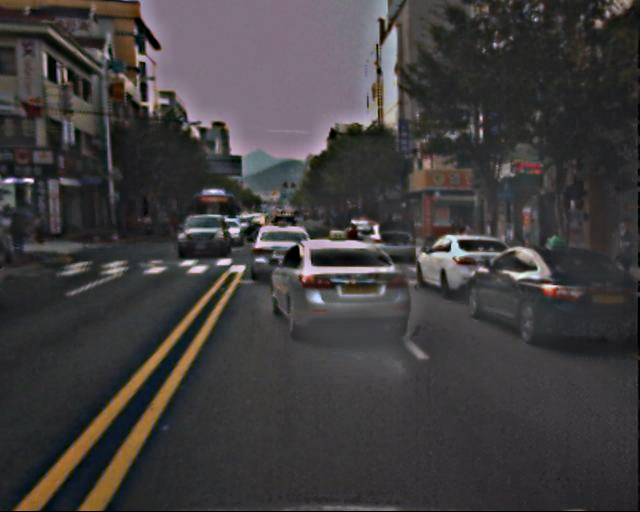person: (606, 217, 639, 289)
